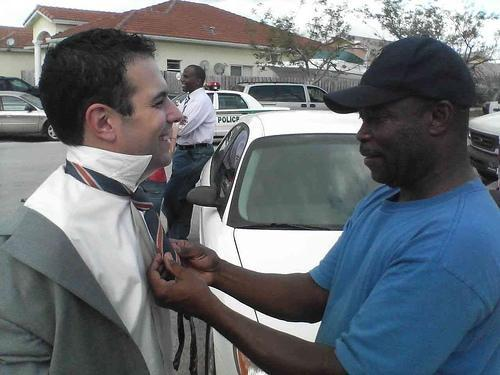car: (187, 110, 384, 370), (211, 92, 286, 144), (0, 91, 58, 141), (231, 83, 330, 111), (468, 110, 500, 181), (0, 76, 40, 96)
